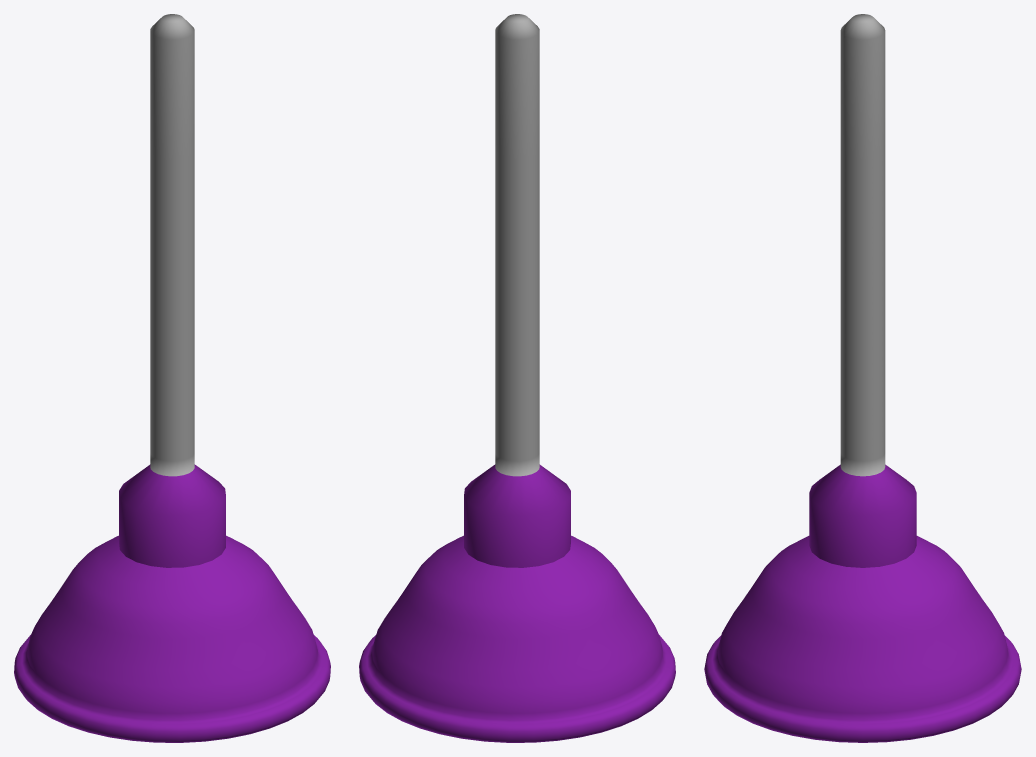
Rendered from plunger-01.fbx.
The picture shows the model from 3 angles, left to right: view 1: azimuth 30°, elevation 25°; view 2: azimuth 150°, elevation 25°; view 3: azimuth 270°, elevation 25°; orthographic projection.
Parts seen in each view (by area): view 1: pCylinder19; view 2: pCylinder19; view 3: pCylinder19.
Part boxes in pixels (left/top/right/bottom): pCylinder19: left=14, top=14, right=330, bottom=742; pCylinder19: left=359, top=14, right=675, bottom=742; pCylinder19: left=704, top=14, right=1021, bottom=742.
Size of the model in its own units: 0.6056 by 1.39 by 0.6056.
